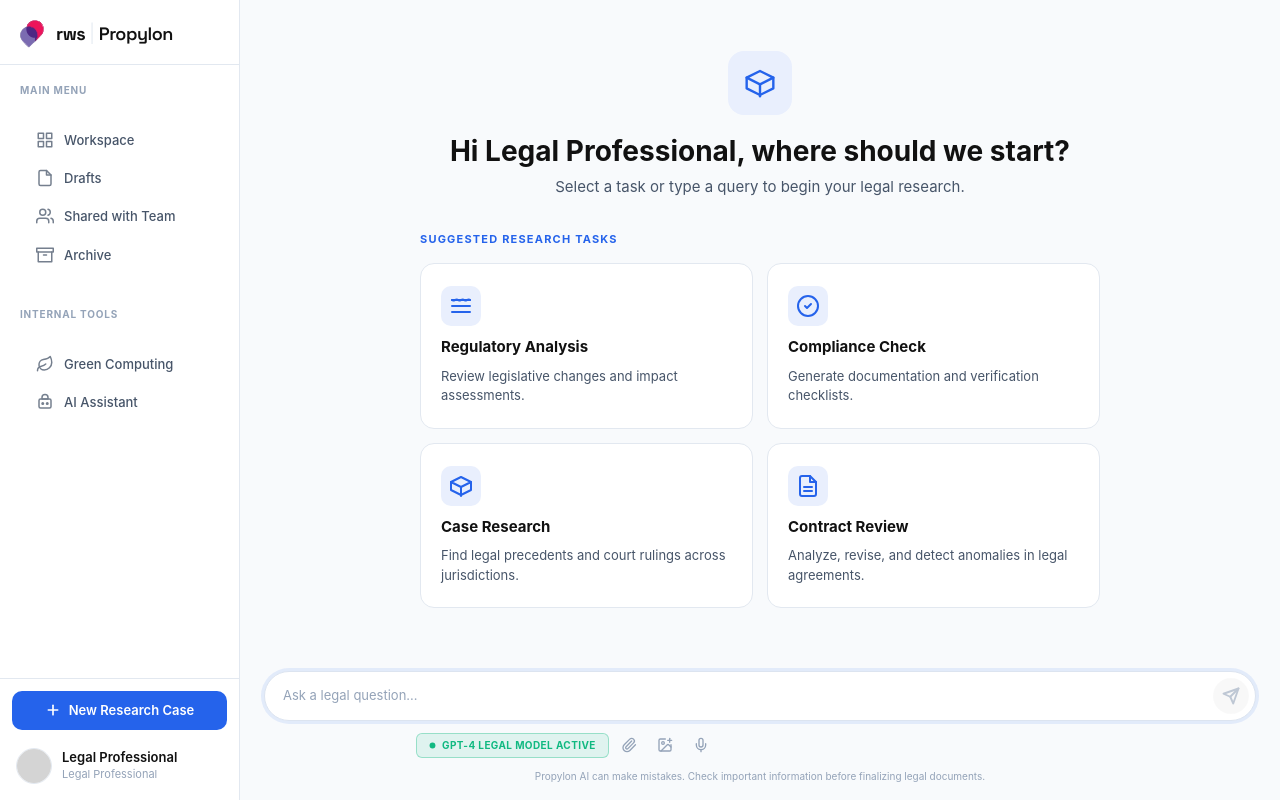
Test: AIagentPage › Error Handling › shows error message when fetch throws a network error
The image size is (1280, 800).
Type "test" into the text box with placeholder "Ask a legal question…".
click(744, 696); type("test")  # box [283,680,1205,712]
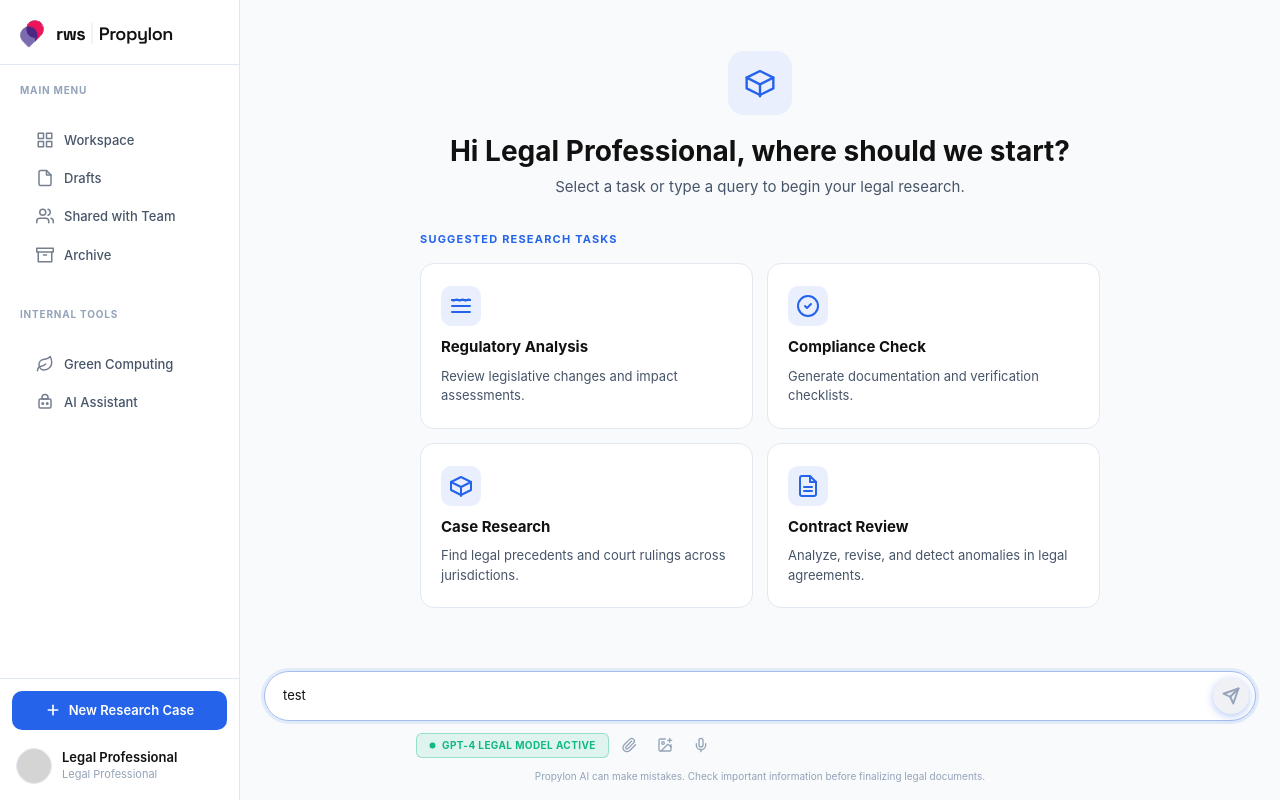
Click the button named "send message".
click(1231, 696)  # box [1213,678,1249,714]
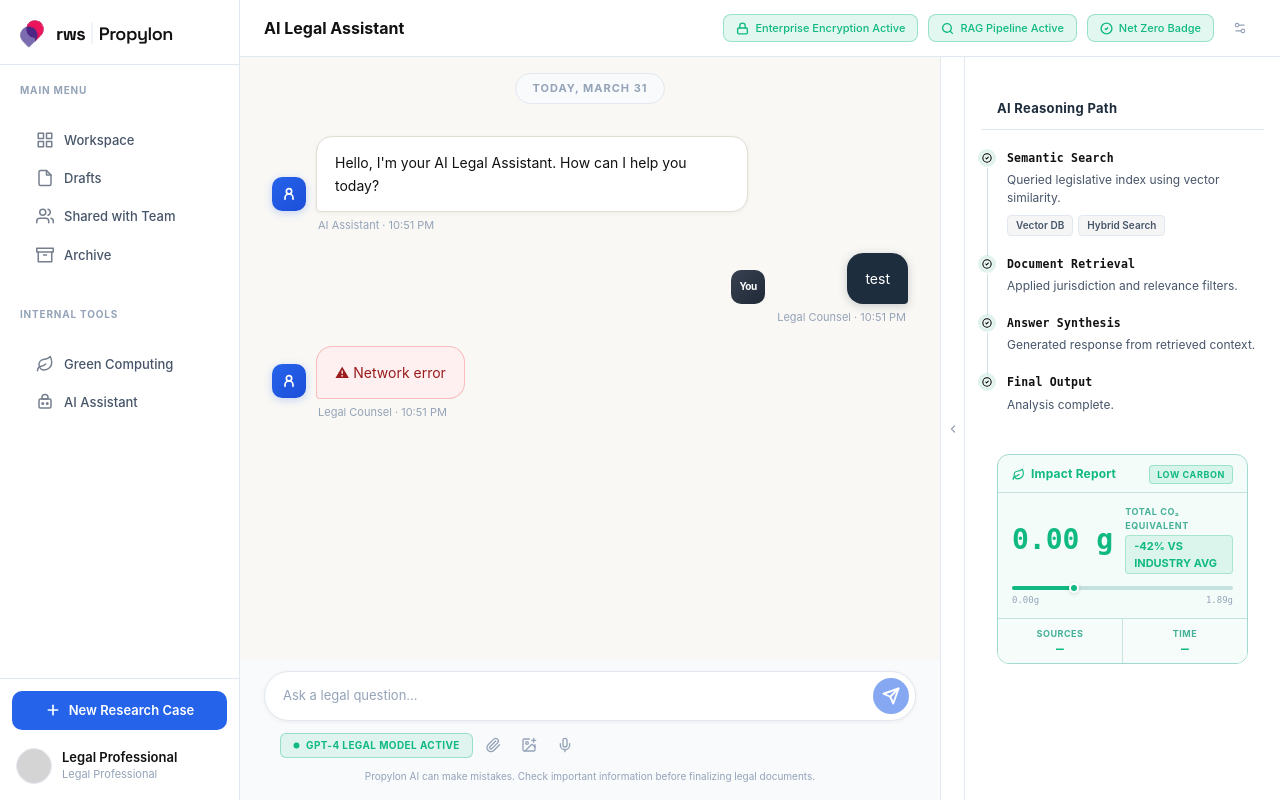
Expected: the text "⚠ Network error" is shown, [316,346,465,399]
